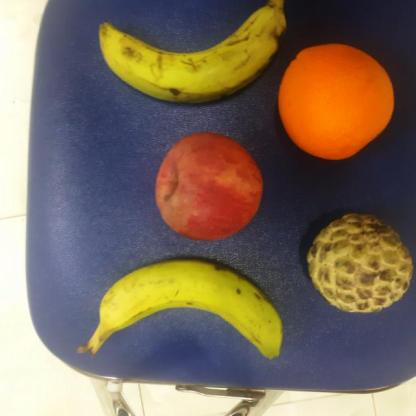annona: (305, 210, 415, 316)
apple: (153, 131, 264, 244)
banana: (83, 256, 287, 359), (98, 0, 288, 109)
orange: (277, 43, 396, 164)
